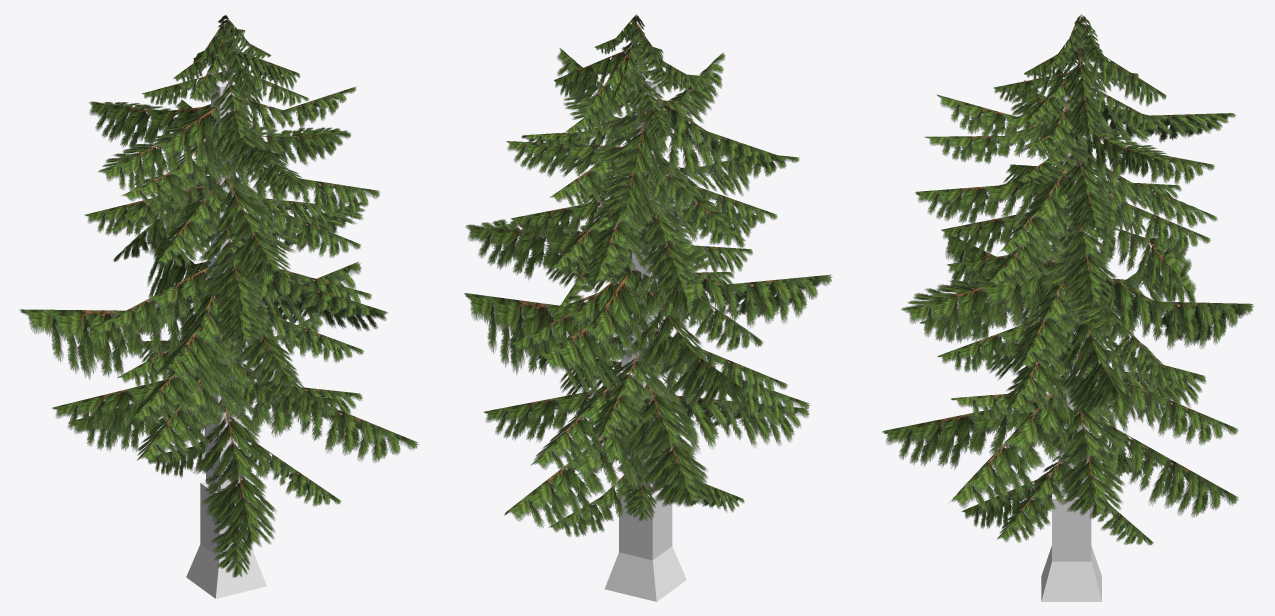
File: SpruceTree_Prop_Model.glb
3 renders of one model, left to right at view 1: azimuth 30°, elevation 25°; view 2: azimuth 150°, elevation 25°; view 3: azimuth 270°, elevation 25°, orthographic. The views are drawn at different scales.
Parts seen in each view (by area): view 1: Branches2_Branch_0, Branches2_Branch_0.001, Куб; view 2: Branches2_Branch_0, Branches2_Branch_0.001, Куб; view 3: Branches2_Branch_0, Branches2_Branch_0.001, Куб.
Boxes of the visible parts, <box> form: Branches2_Branch_0: <box>19,19,387,577</box>; Branches2_Branch_0.001: <box>74,14,418,506</box>; Куб: <box>186,79,266,598</box>; Branches2_Branch_0: <box>464,16,809,536</box>; Branches2_Branch_0.001: <box>465,14,832,520</box>; Куб: <box>604,73,686,601</box>; Branches2_Branch_0: <box>882,19,1238,545</box>; Branches2_Branch_0.001: <box>924,14,1253,542</box>; Куб: <box>1041,71,1101,601</box>.
Size of the model in its own units: 7.55 by 12.36 by 7.67.
Materials: 3 (2 with a texture image).
